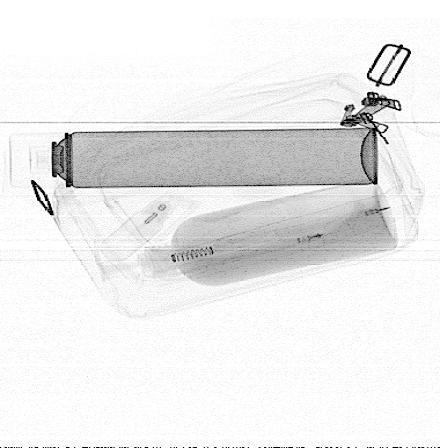Sprayer: (8, 127, 378, 189)
